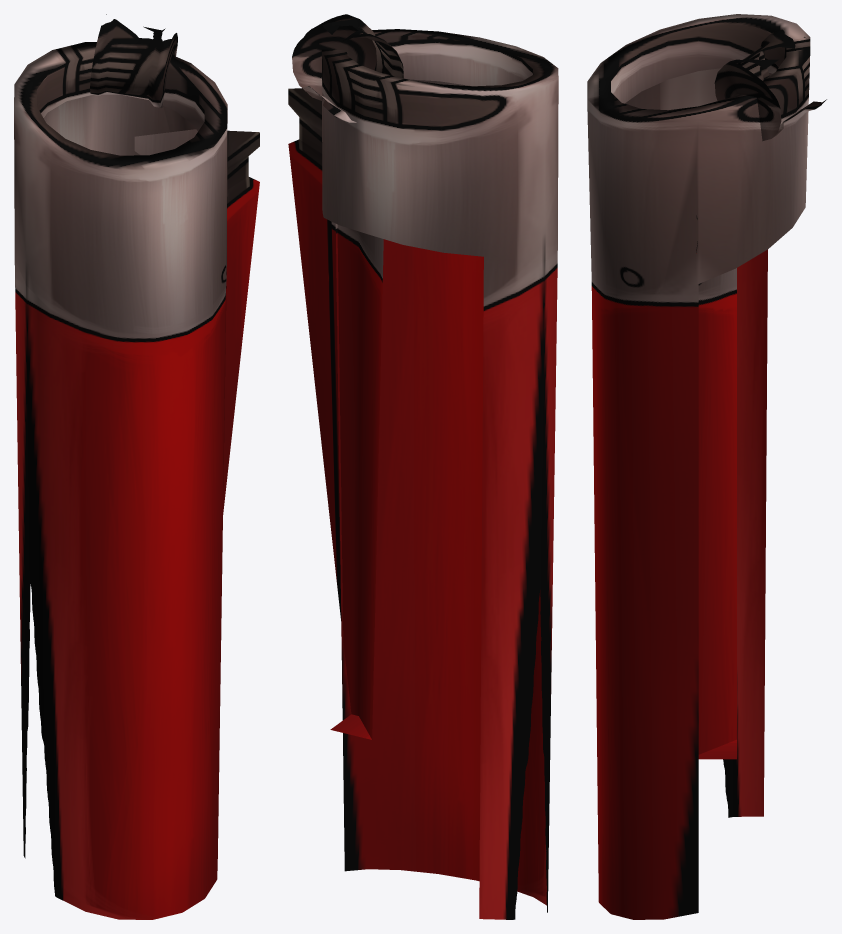
The model's file is mod0_mecheron.FBX.
3 views of the same model, side by side, from view 1: azimuth 30°, elevation 25°; view 2: azimuth 150°, elevation 25°; view 3: azimuth 270°, elevation 25° (orthographic). The views are drawn at different scales.
Visible parts, largest first — view 1: Object001; view 2: Object001; view 3: Object001.
Boxes of the visible parts, x1,y1,x2,y2 form: Object001: (14, 14, 259, 919); Object001: (288, 14, 558, 919); Object001: (587, 14, 826, 919).
Size of the model in its own units: 108 by 367 by 91.01.
